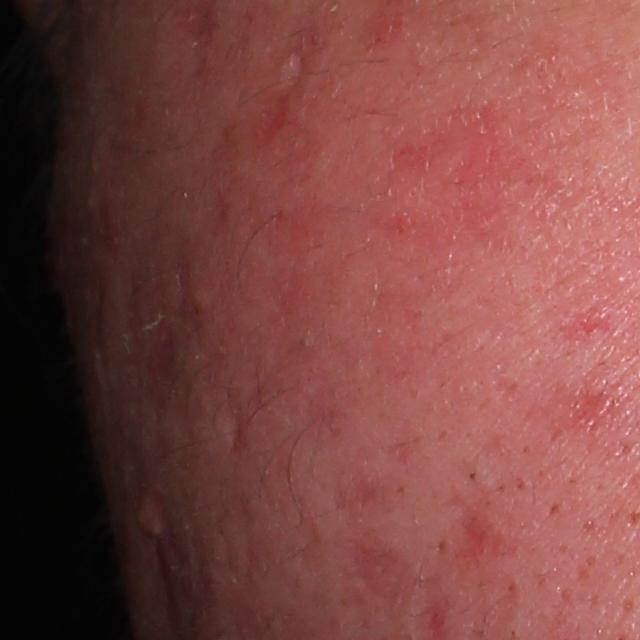comedo: (464, 464, 481, 487)
